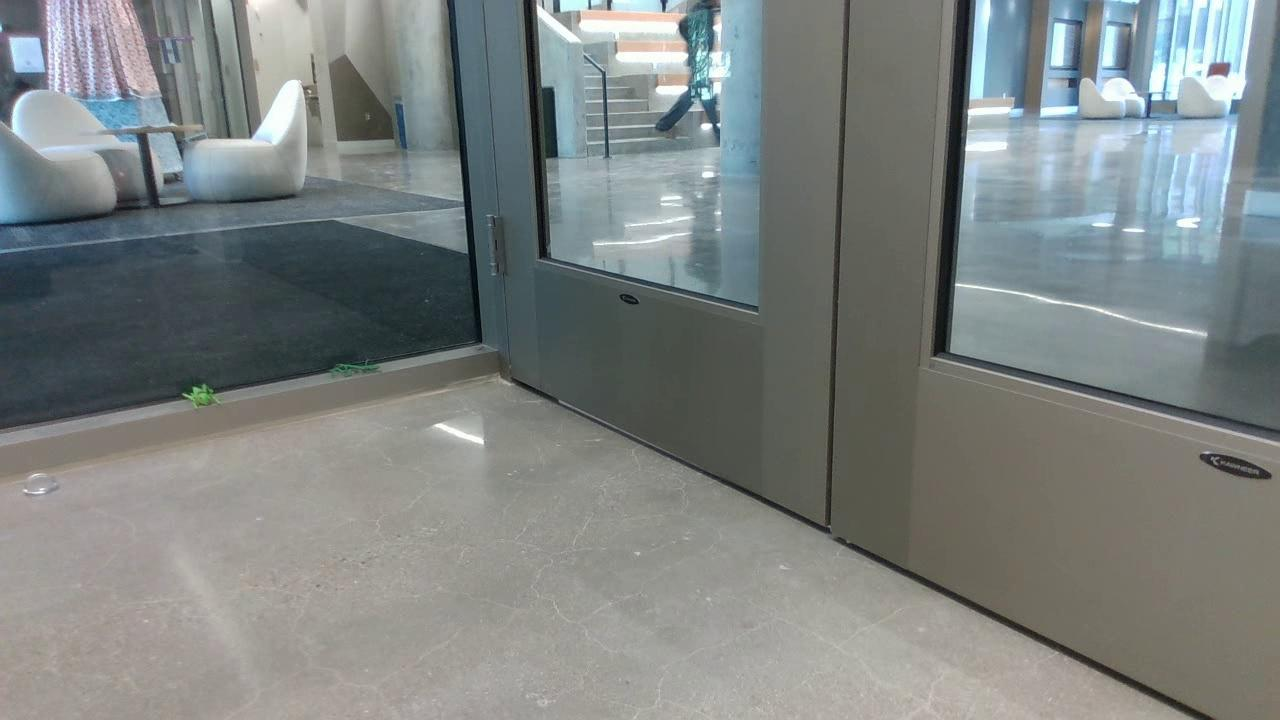grasshopper: (181, 386, 224, 408)
